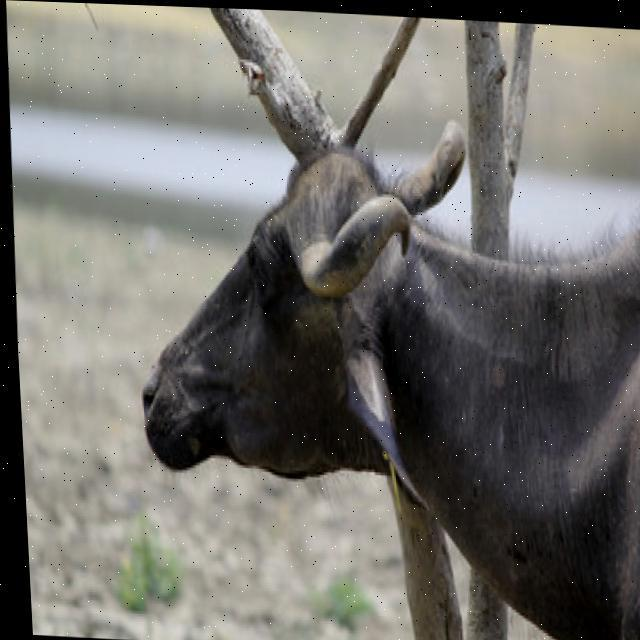Buffalo: (111, 4, 640, 640)
